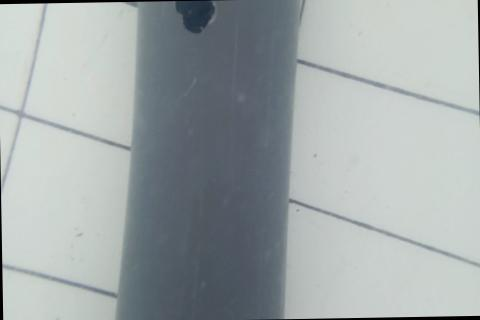kebocoran: (173, 0, 216, 37)
